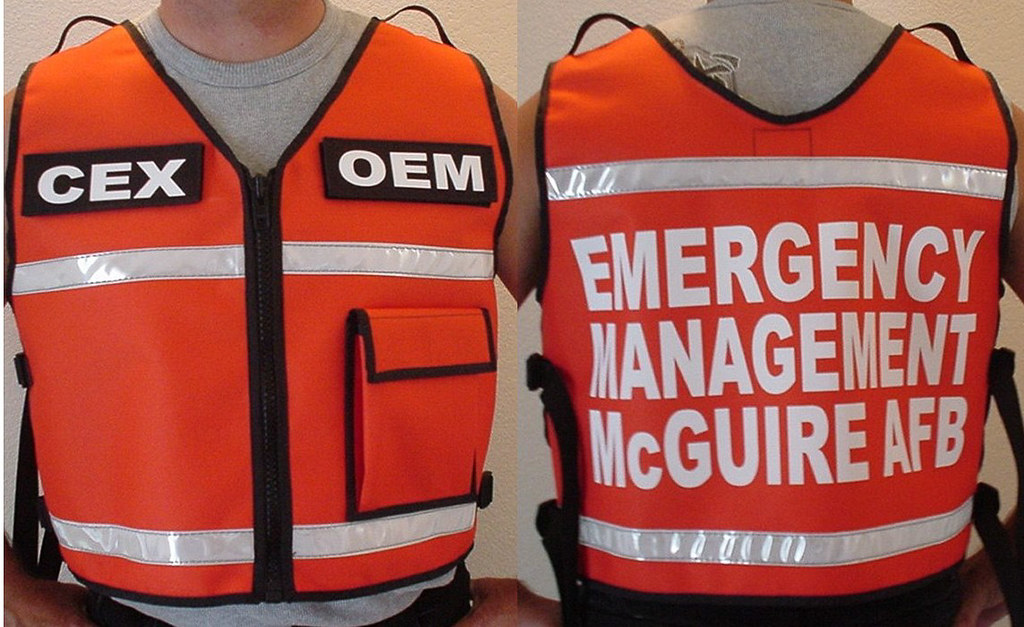Reflective vest: (11, 20, 515, 611), (542, 23, 1005, 591)
